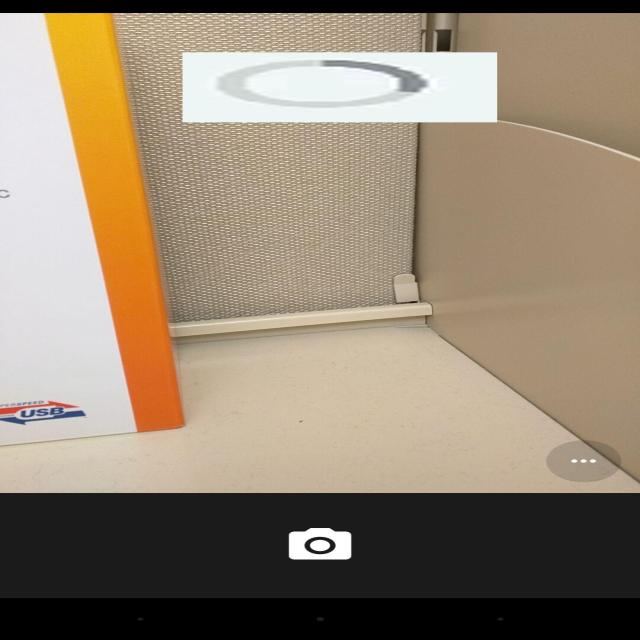misdirection: (183, 52, 497, 122)
